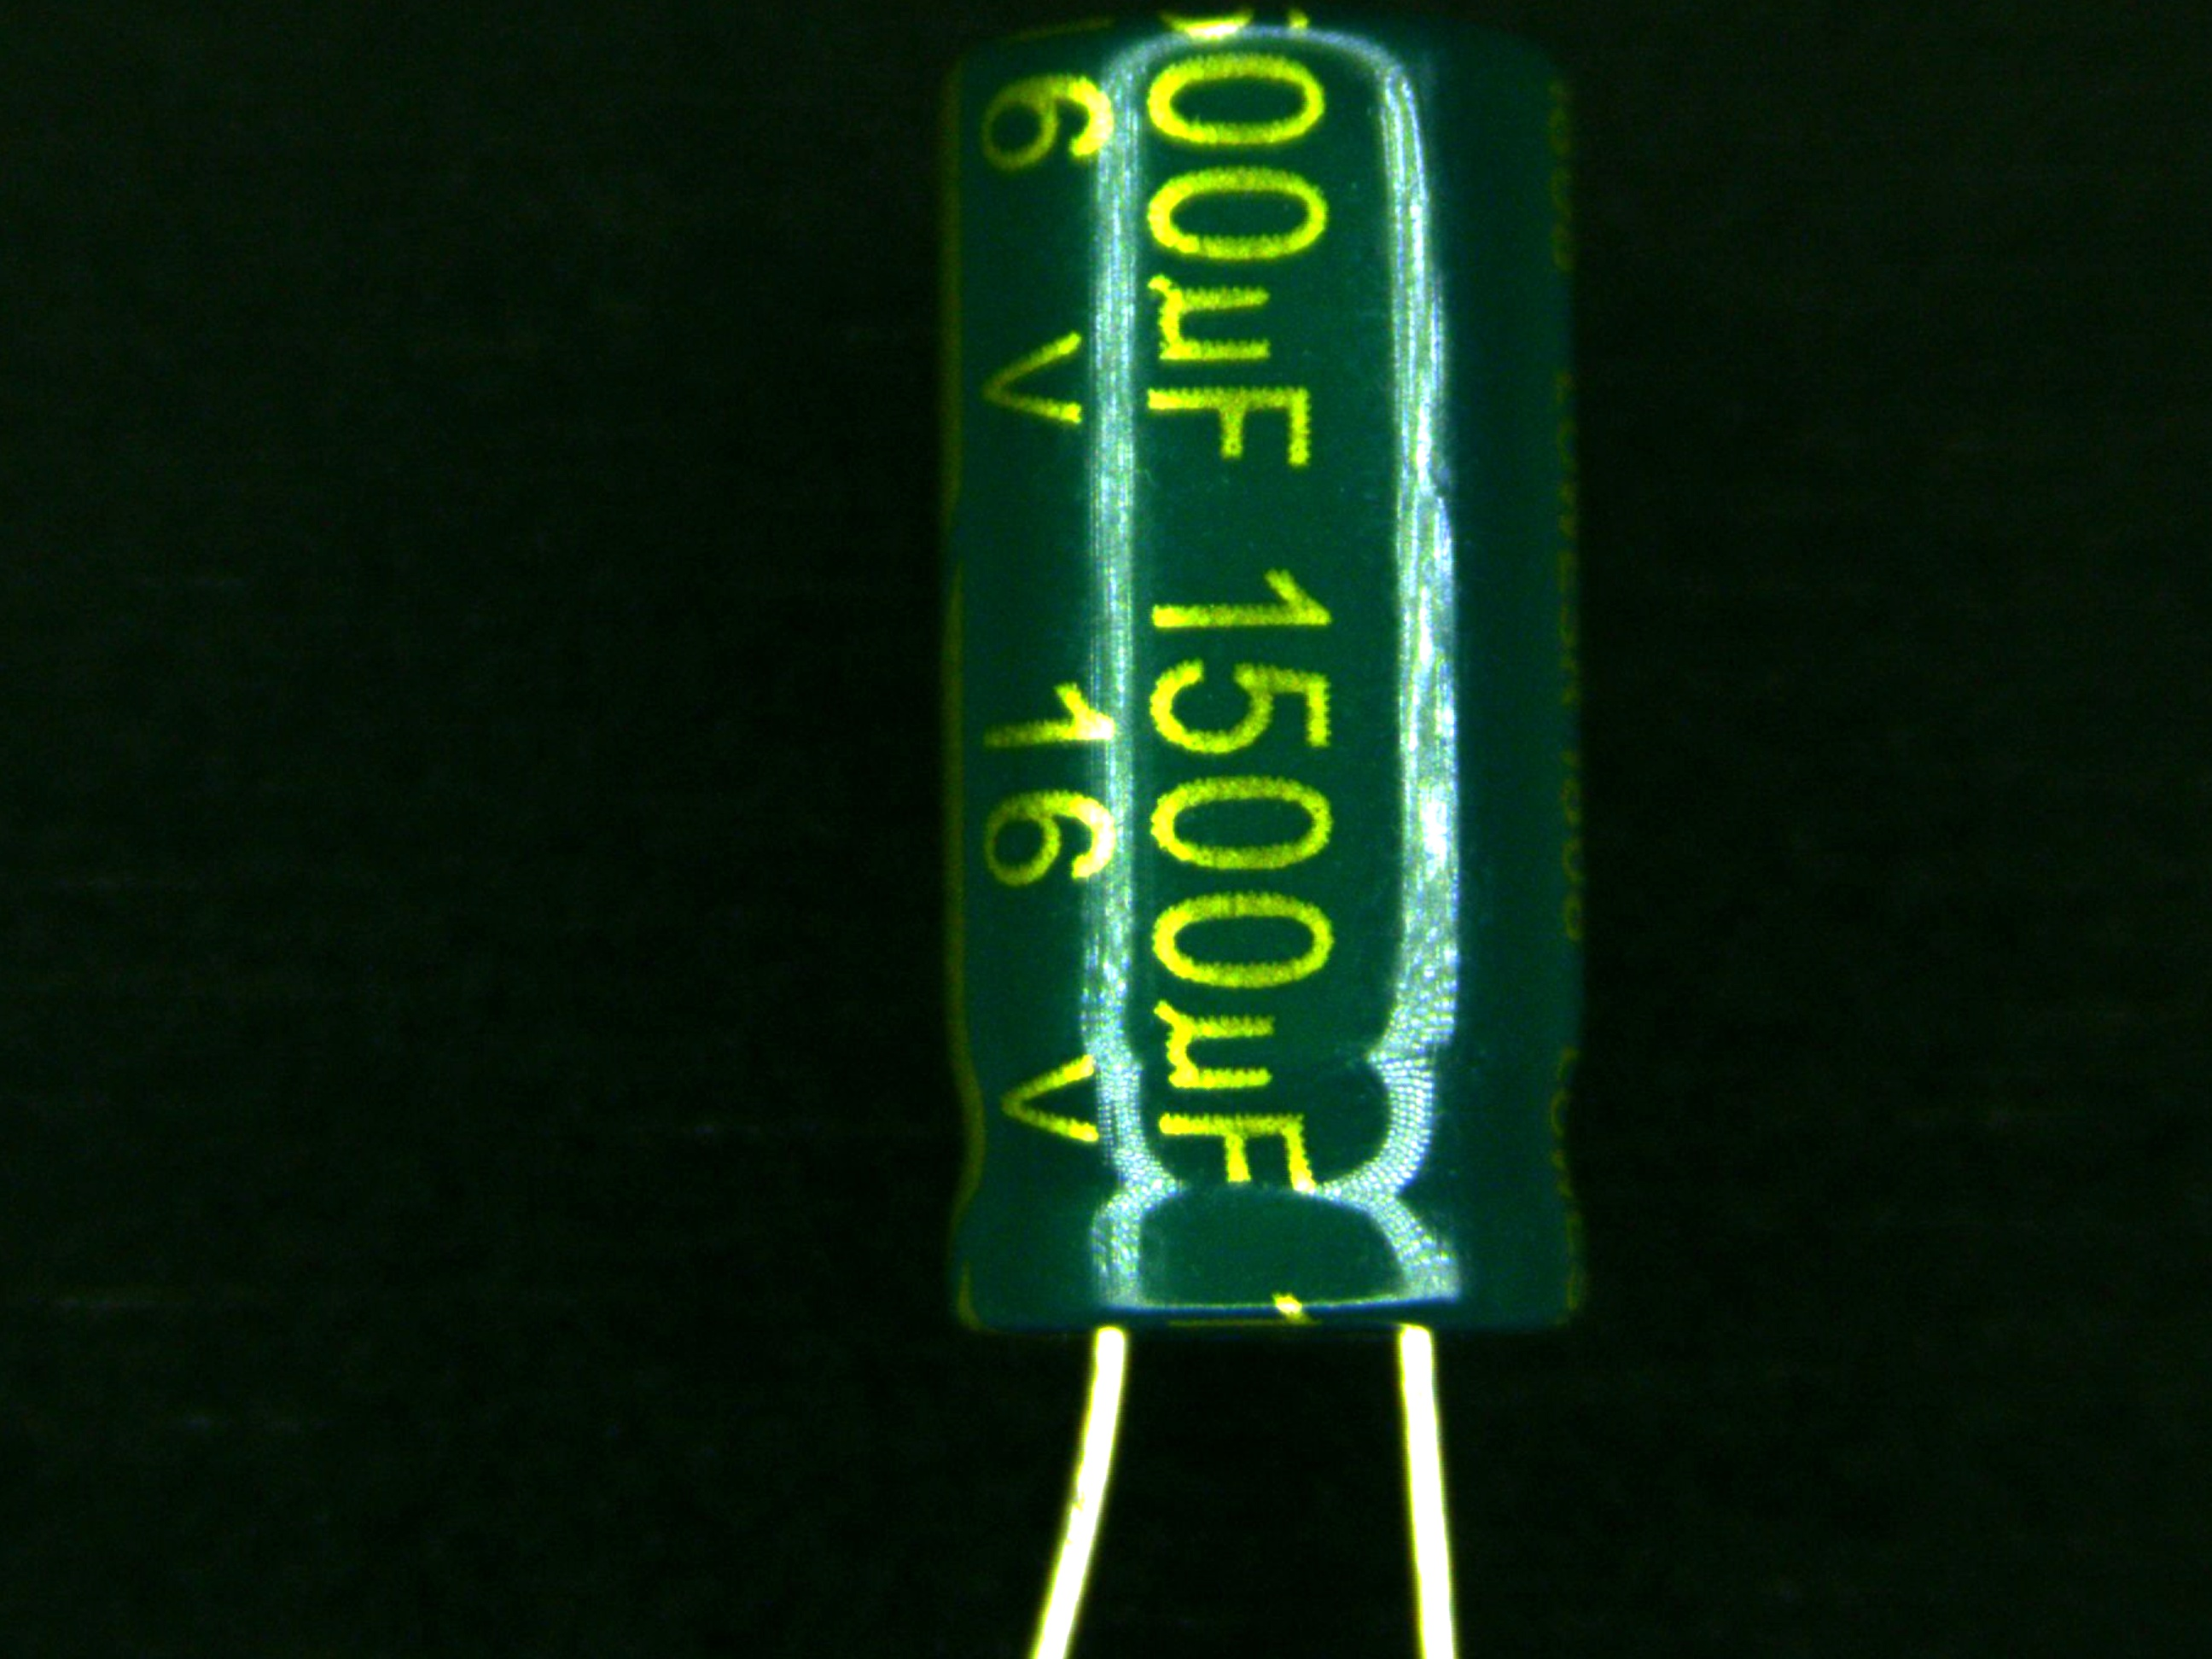c1: (921, 0, 1604, 1530)
